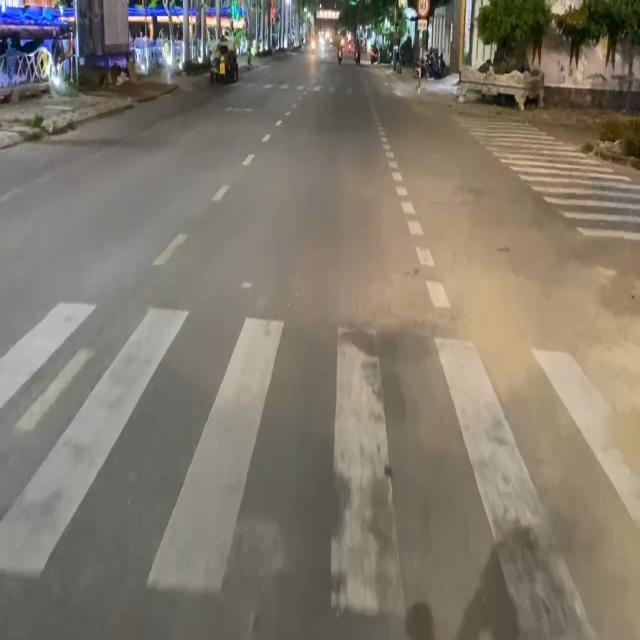walk-crossing: (1, 300, 640, 640), (460, 102, 640, 242)
